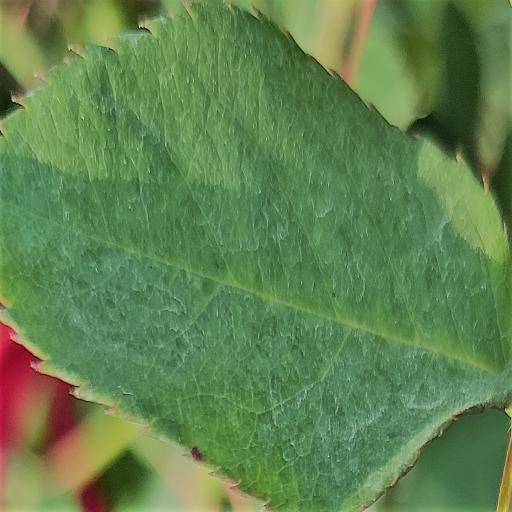healthy_leaf: (0, 3, 512, 511)
